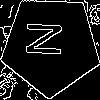N: (25, 20, 71, 58)
